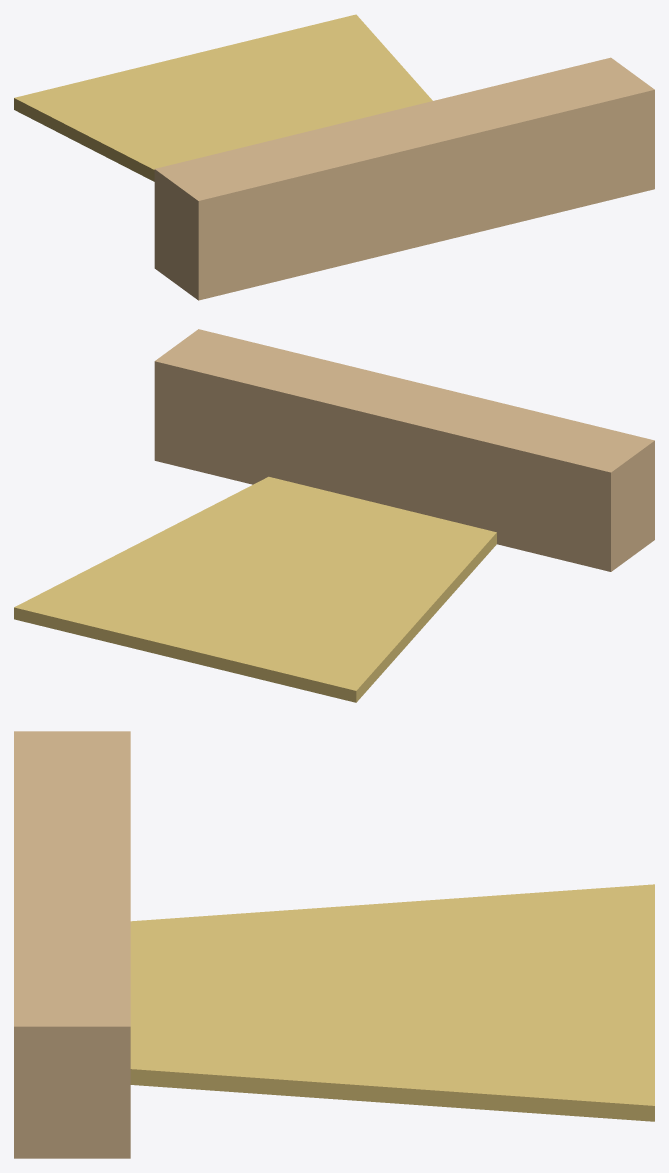
File: prop-dovetail-template-dm1.fbx
3 views of the same model, one above another, from view 1: azimuth 30°, elevation 25°; view 2: azimuth 150°, elevation 25°; view 3: azimuth 270°, elevation 25° (orthographic). The views are drawn at different scales.
Parts seen in each view (by area): view 1: prop-dovetail-template-dm1; view 2: prop-dovetail-template-dm1; view 3: prop-dovetail-template-dm1.
Boxes of the visible parts, bbox=[...] form: prop-dovetail-template-dm1: bbox=[14, 14, 654, 300]; prop-dovetail-template-dm1: bbox=[14, 329, 654, 702]; prop-dovetail-template-dm1: bbox=[14, 731, 654, 1158].
Bounding box in the file's own units: 12 × 2.5 × 11.
